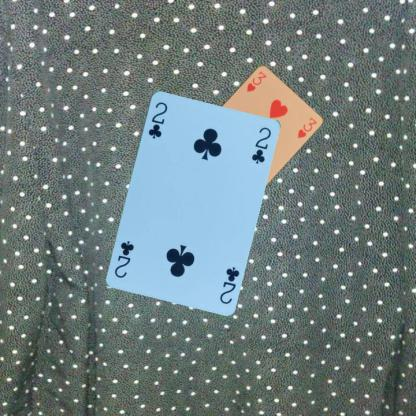2c: (145, 99, 169, 140), (217, 264, 240, 305)
3h: (244, 68, 267, 93)
